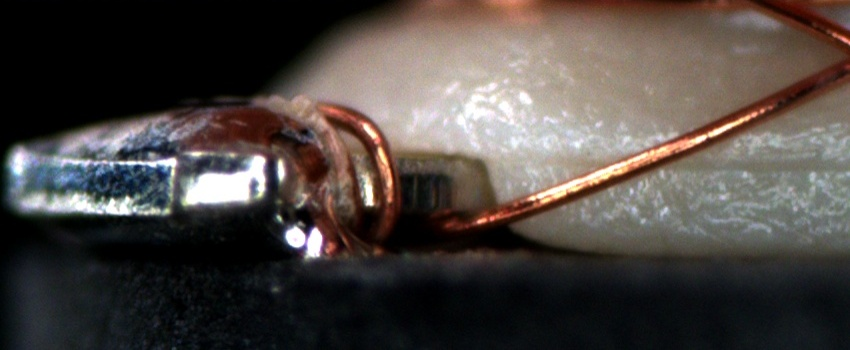CL: (825, 28, 850, 83)
DL: (511, 134, 850, 198)
TE: (306, 93, 414, 248)
